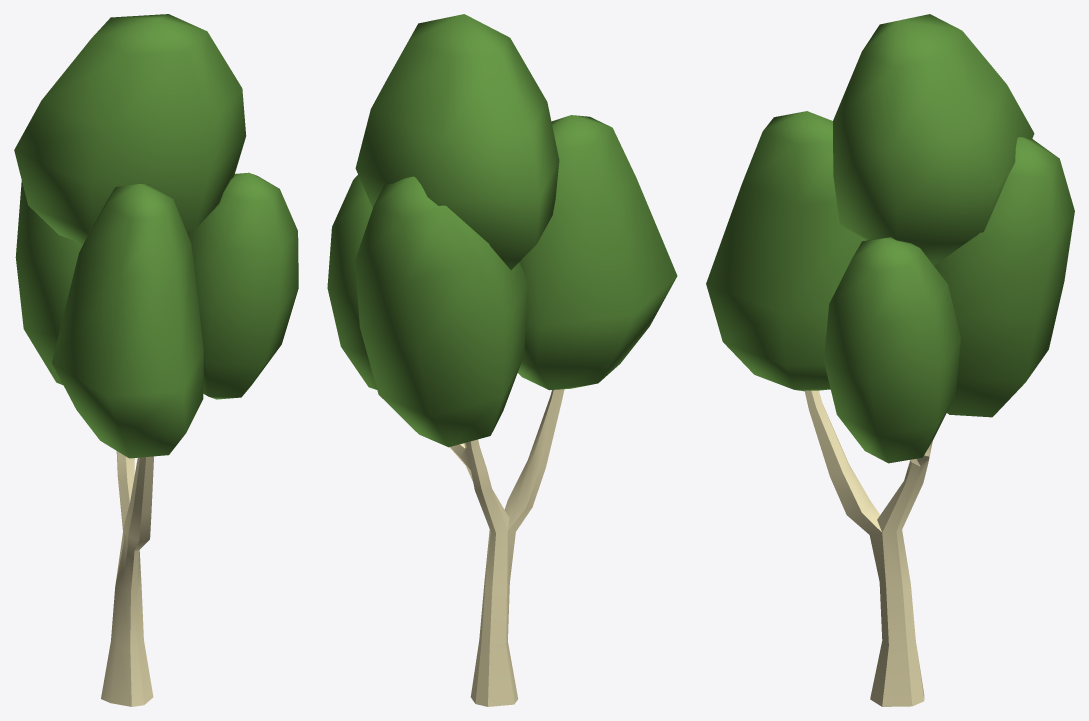
Rendered from BirchTree_01.fbx.
3 views of the same model, side by side, from view 1: azimuth 30°, elevation 25°; view 2: azimuth 150°, elevation 25°; view 3: azimuth 270°, elevation 25° (orthographic). The views are drawn at different scales.
Parts seen in each view (by area): view 1: Birch_Tree_01; view 2: Birch_Tree_01; view 3: Birch_Tree_01.
Boxes of the visible parts, <box> form: Birch_Tree_01: <box>14,14,298,706</box>; Birch_Tree_01: <box>327,14,677,706</box>; Birch_Tree_01: <box>706,14,1074,706</box>.
Bounding box in the file's own units: 2.77 × 6.66 × 3.22.
1 material, 1 textured.
